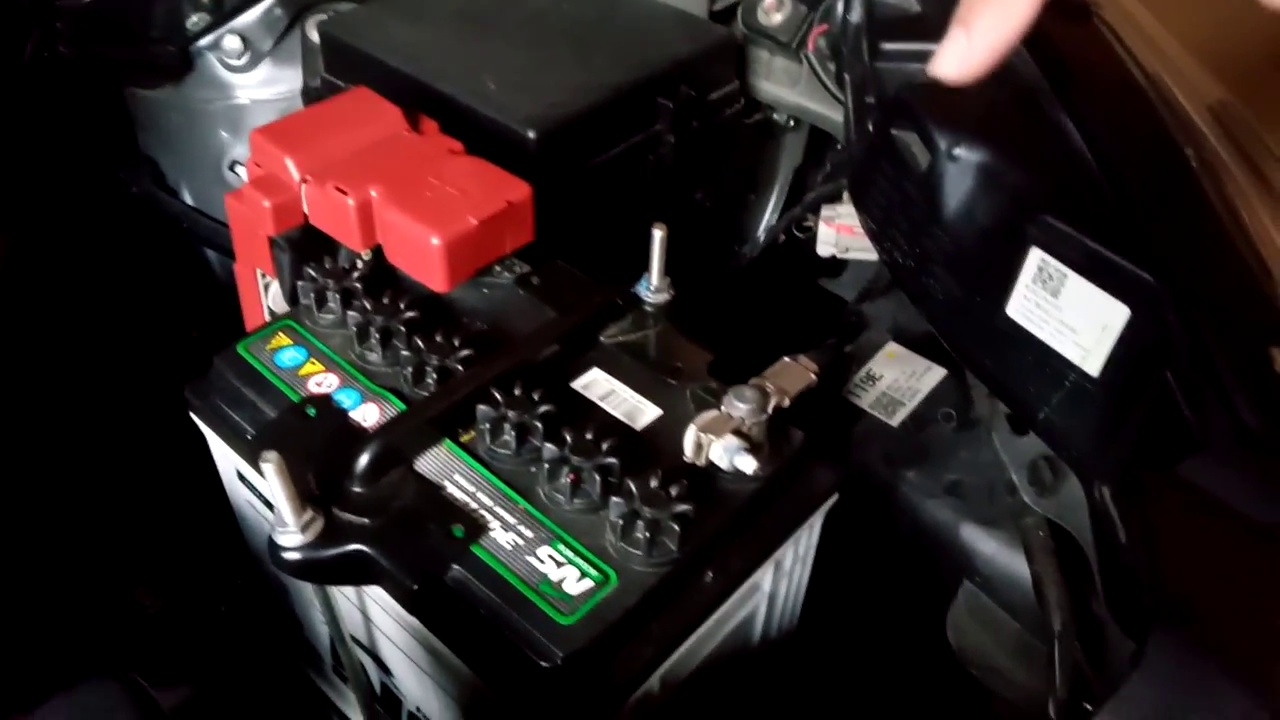battery: (179, 181, 828, 637)
neg_connected: (686, 318, 810, 508)
pos_connected: (218, 101, 526, 323)
